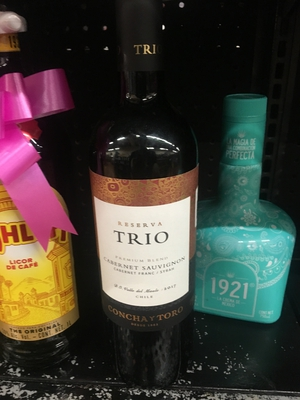trio cabernet sauvignon: (89, 18, 214, 344)
